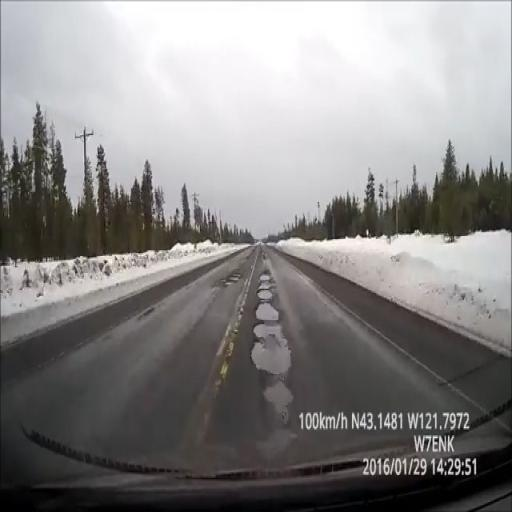Potholes: (251, 267, 296, 454)
